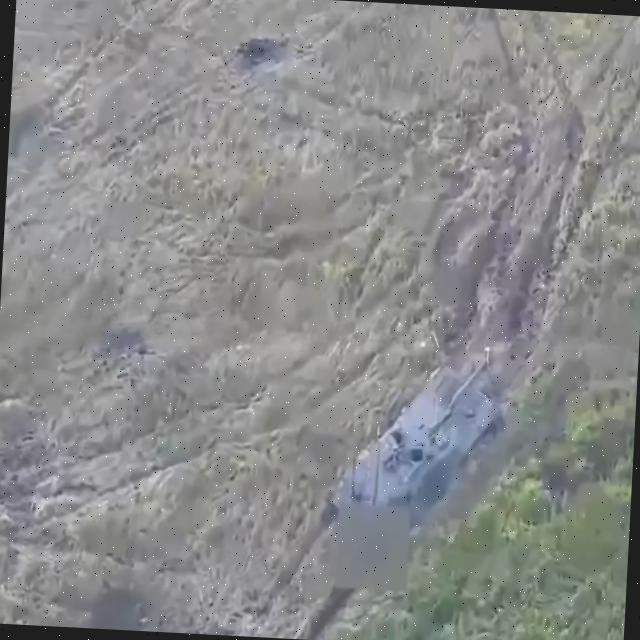MBT: (325, 343, 508, 561)
